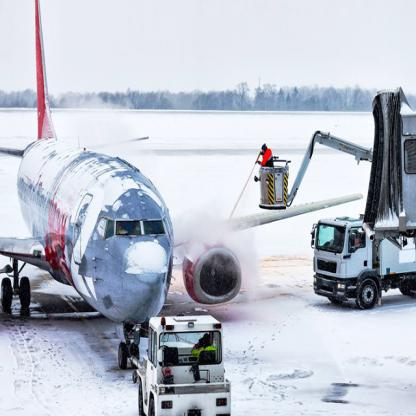CIV_Plane: (0, 0, 364, 374)
